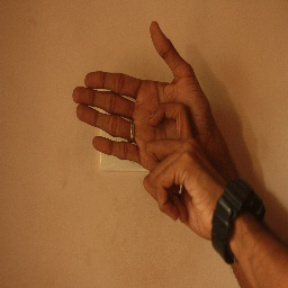R: (73, 21, 219, 214)
